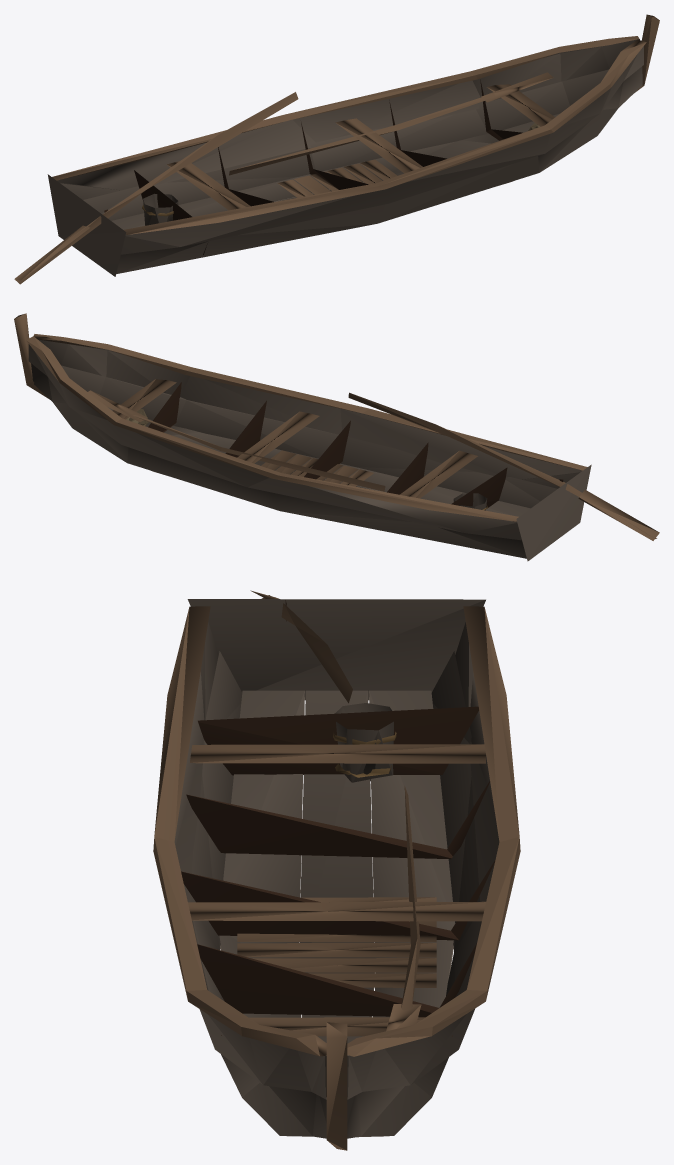
The model's file is SM_RowBoat.glb.
The picture shows the model from 3 angles, top to bottom: view 1: azimuth 30°, elevation 25°; view 2: azimuth 150°, elevation 25°; view 3: azimuth 270°, elevation 25°; orthographic projection. The views are drawn at different scales.
Parts seen in each view (by area): view 1: SM_RowBoat; view 2: SM_RowBoat; view 3: SM_RowBoat.
Boxes of the visible parts, x1,y1,x2,y2 form: SM_RowBoat: [14, 14, 659, 284]; SM_RowBoat: [14, 313, 659, 561]; SM_RowBoat: [153, 590, 520, 1150].
Size of the model in its own units: 6.21 by 1.05 by 1.59.
